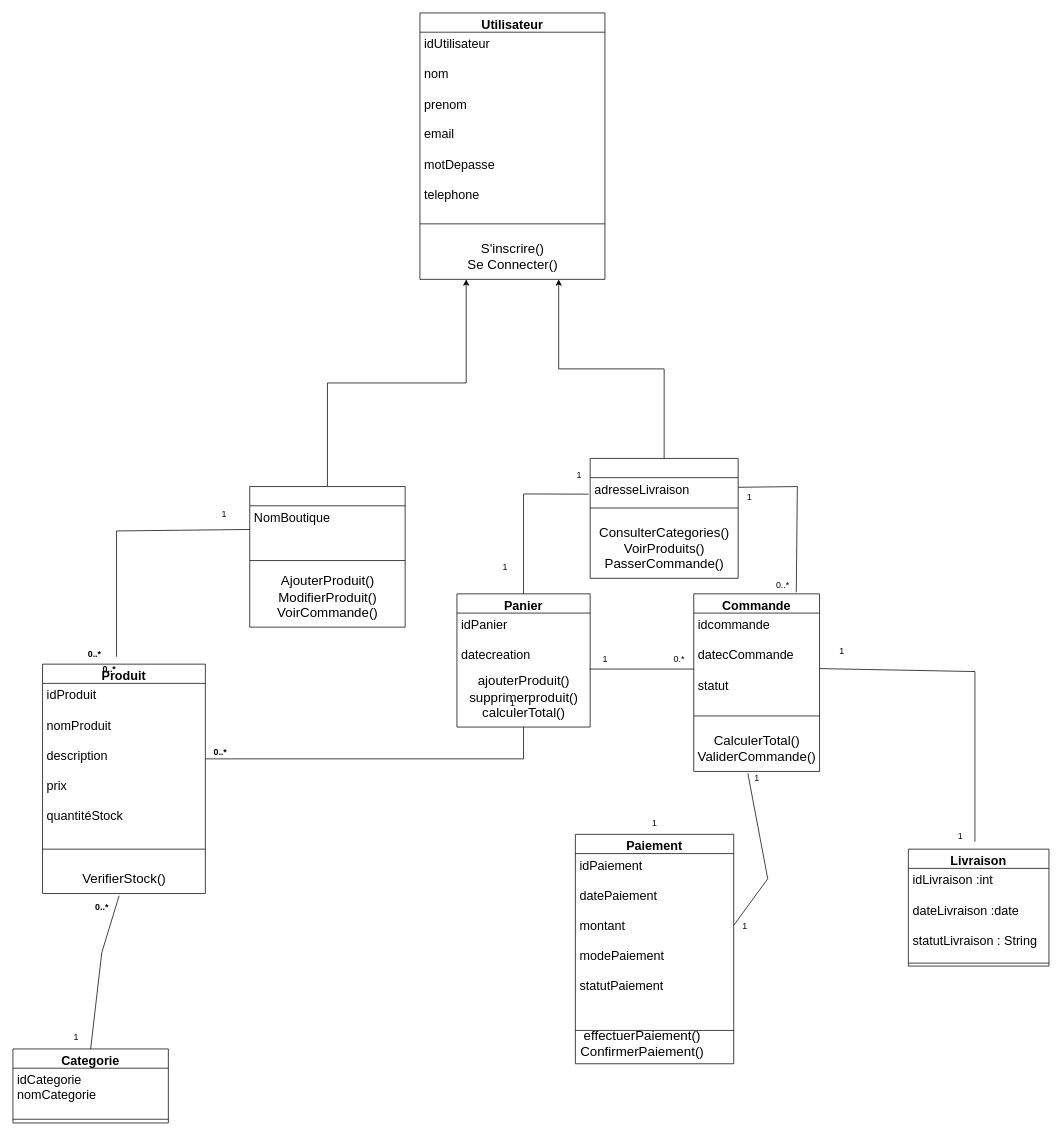
Some shapes in this 1062 by 1136 pixel diagram are drawn without their labels. The shapes that lost their labels are listed below. From the top down, each one's box as (x1, y1, x2, y2) in pixels, then its label:
(589, 458, 738, 578): Client
(249, 486, 405, 627): Vendeur
